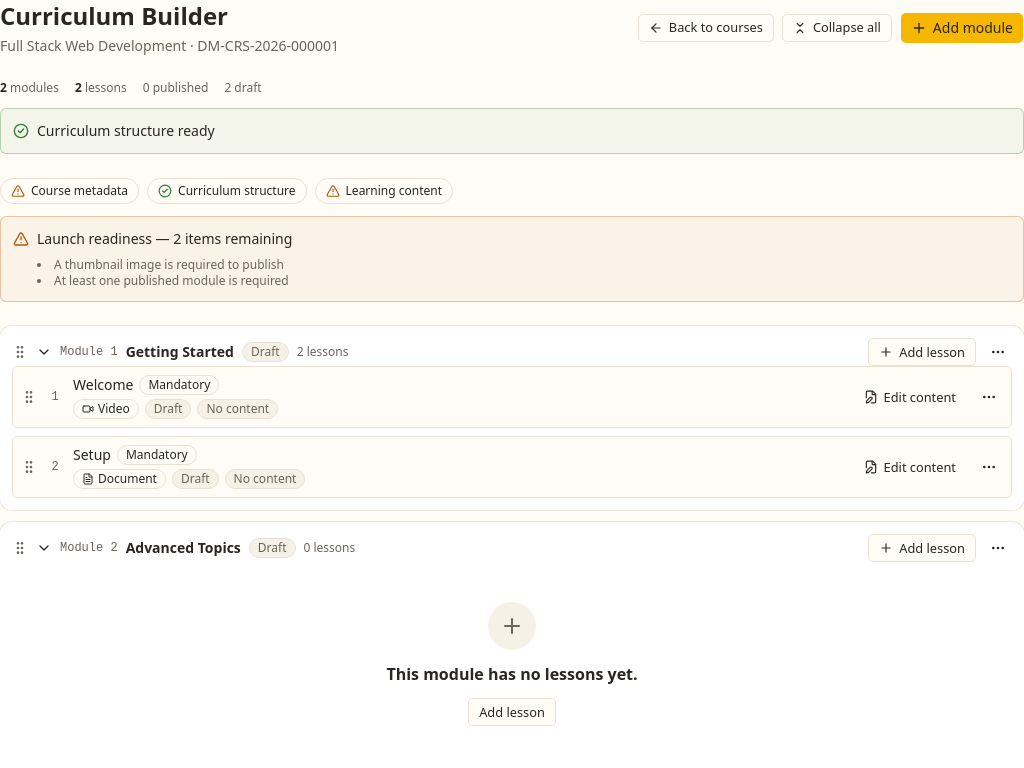
Scenario: CourseCurriculumPage › edits a module
expect the text "Getting Started" is shown: met, box [126,342,234,362]
Click the button named "actions for module getting started" at (998, 352), box [984,338,1012,366]
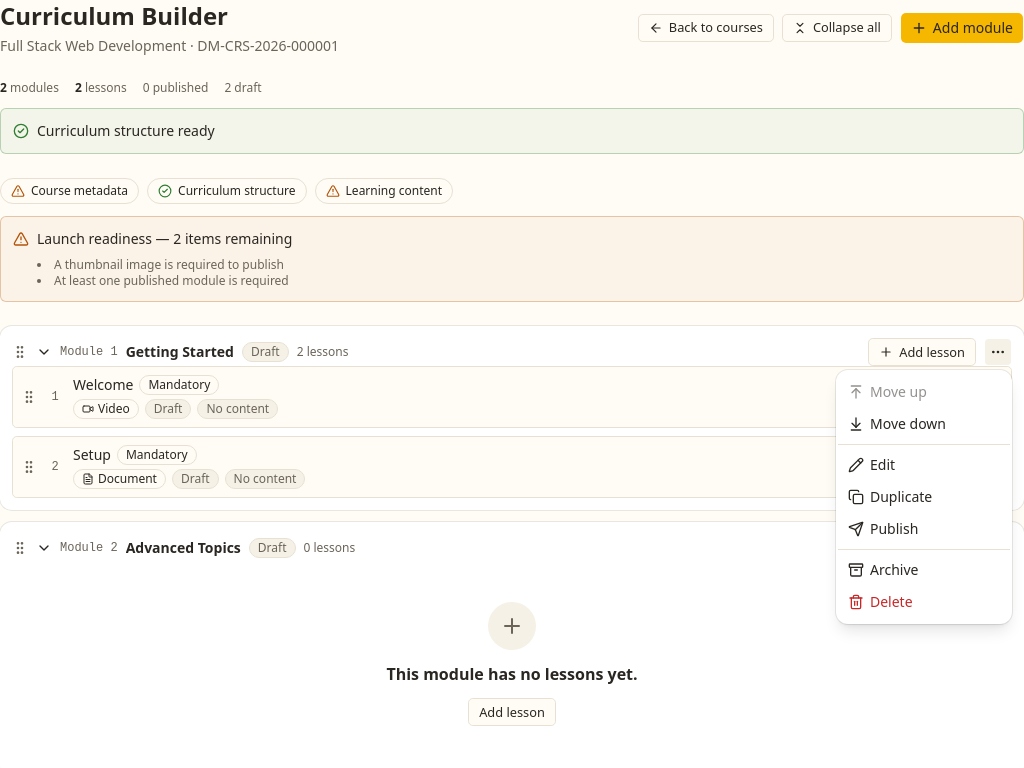
Click the menu item "Edit" at (872, 464), box [848,455,895,474]
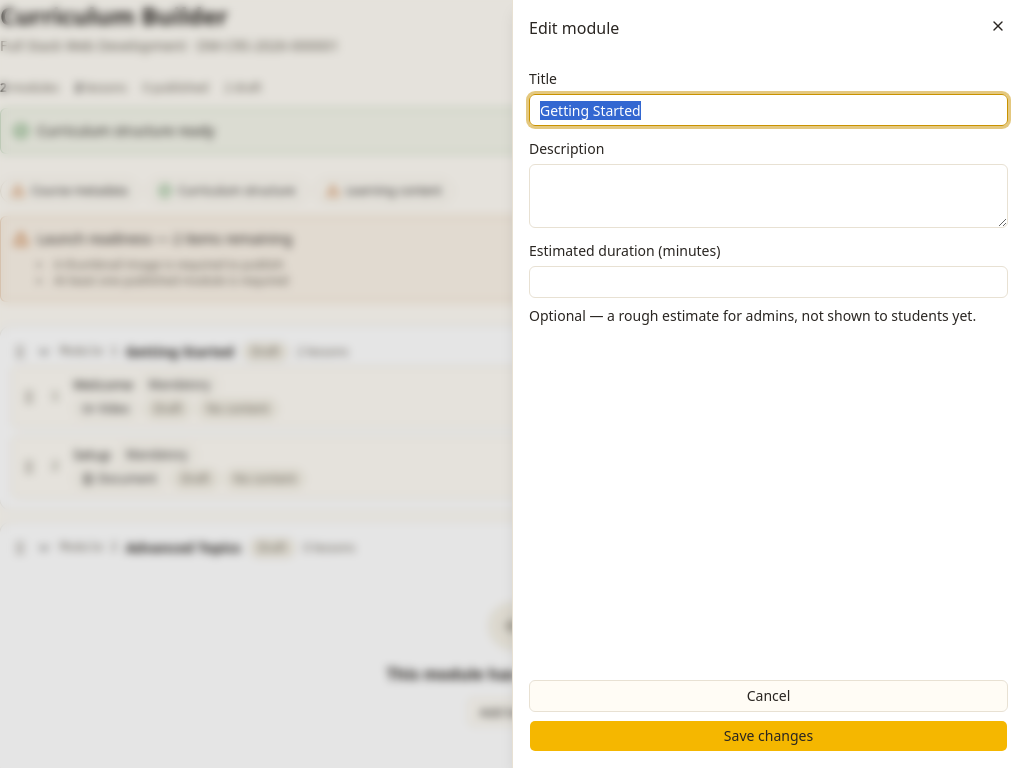
Replace the text in the field labelled "Title" with "Renamed Module" at (768, 110), box [529,94,1008,126]
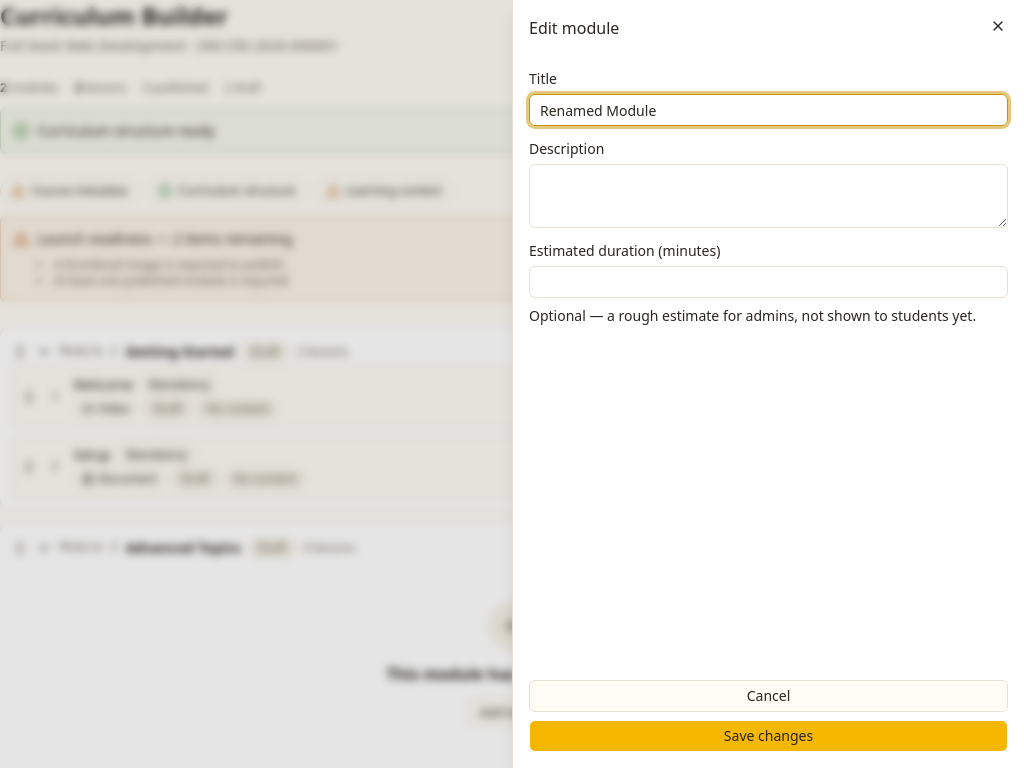
Click the button "Save changes" at (768, 736), box [529,720,1008,752]
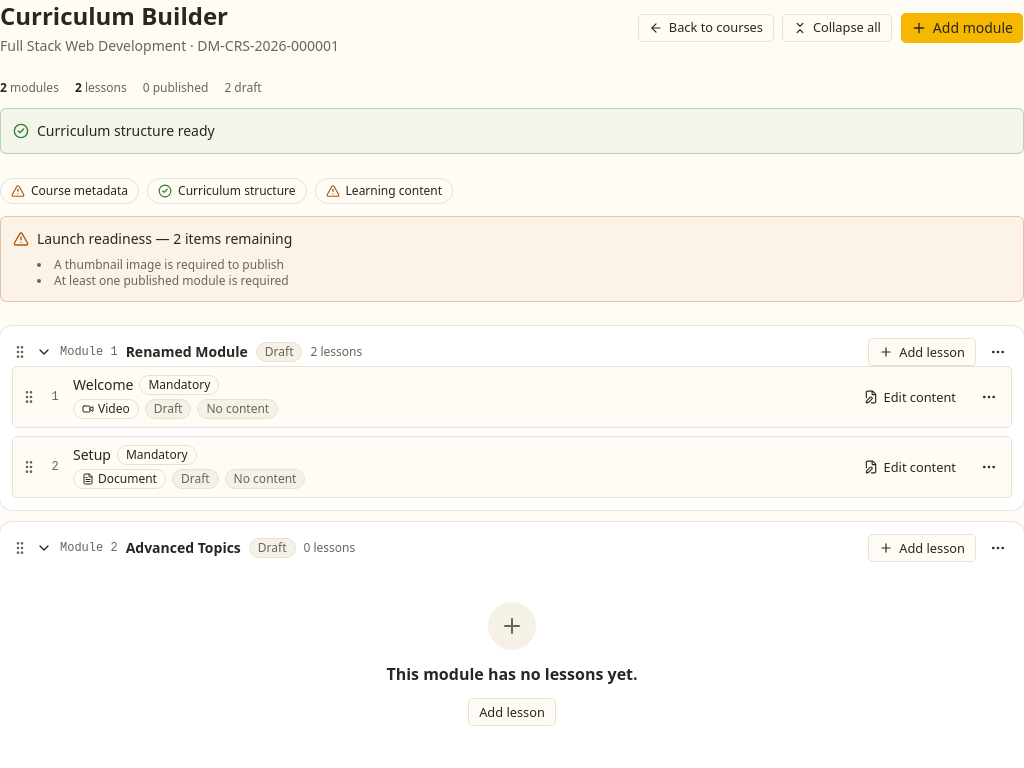
expect the text "Renamed Module" is shown: met, box [126,342,248,362]
